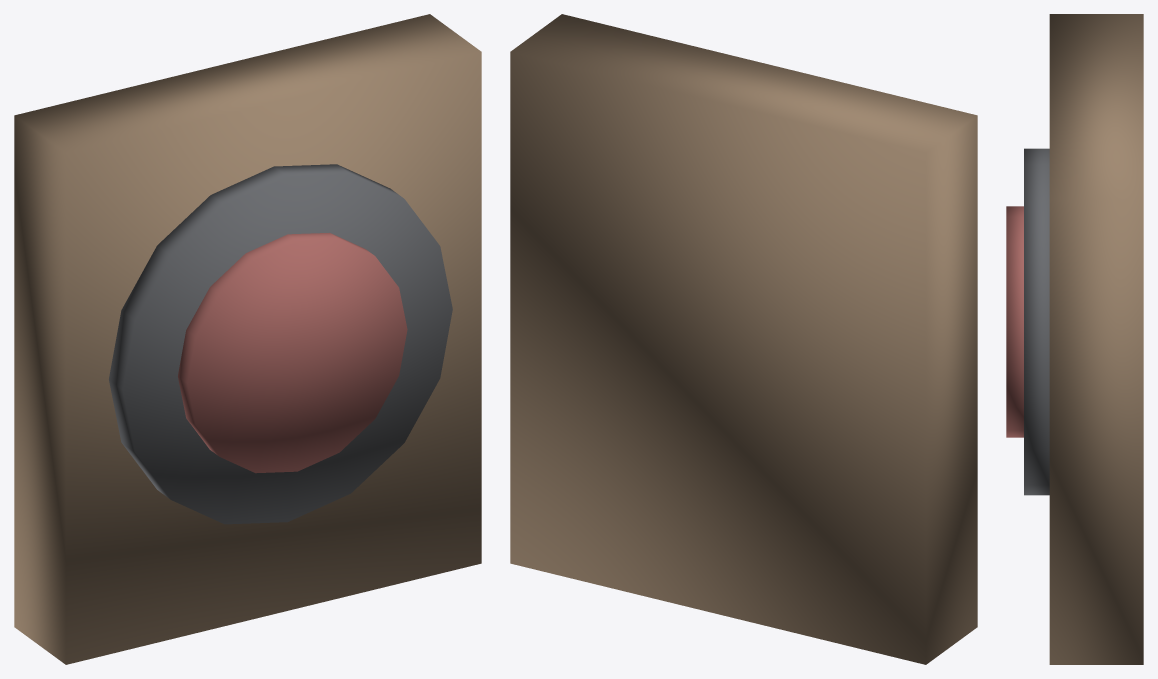
File: dartboard_cabinet__deep.glb
3 views of the same model, side by side, from view 1: azimuth 30°, elevation 25°; view 2: azimuth 150°, elevation 25°; view 3: azimuth 270°, elevation 25° (orthographic). The views are drawn at different scales.
Parts seen in each view (by area): view 1: world; view 2: world; view 3: world.
Part boxes in pixels (box(x1,y1,x2,y2)): world: box(14, 14, 481, 664); world: box(510, 14, 977, 664); world: box(1006, 14, 1143, 664).
Size of the model in its own units: 0.68 by 0.8 by 0.2135.
